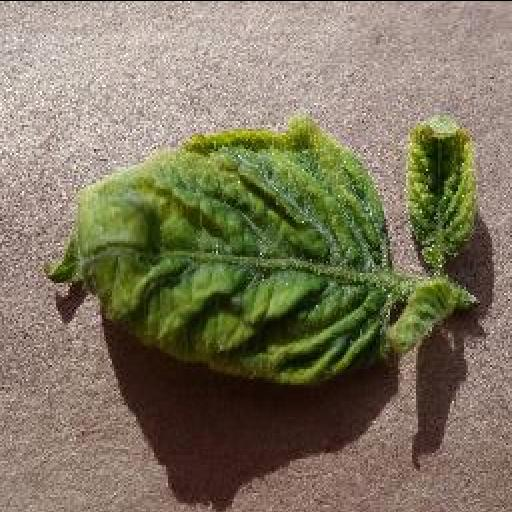disease_tomato: (42, 110, 392, 388), (402, 113, 480, 261)
